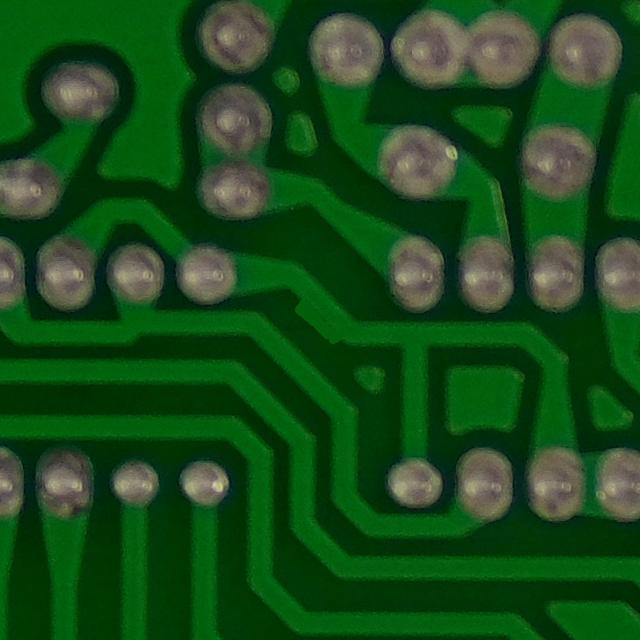spur: (282, 287, 358, 354)
